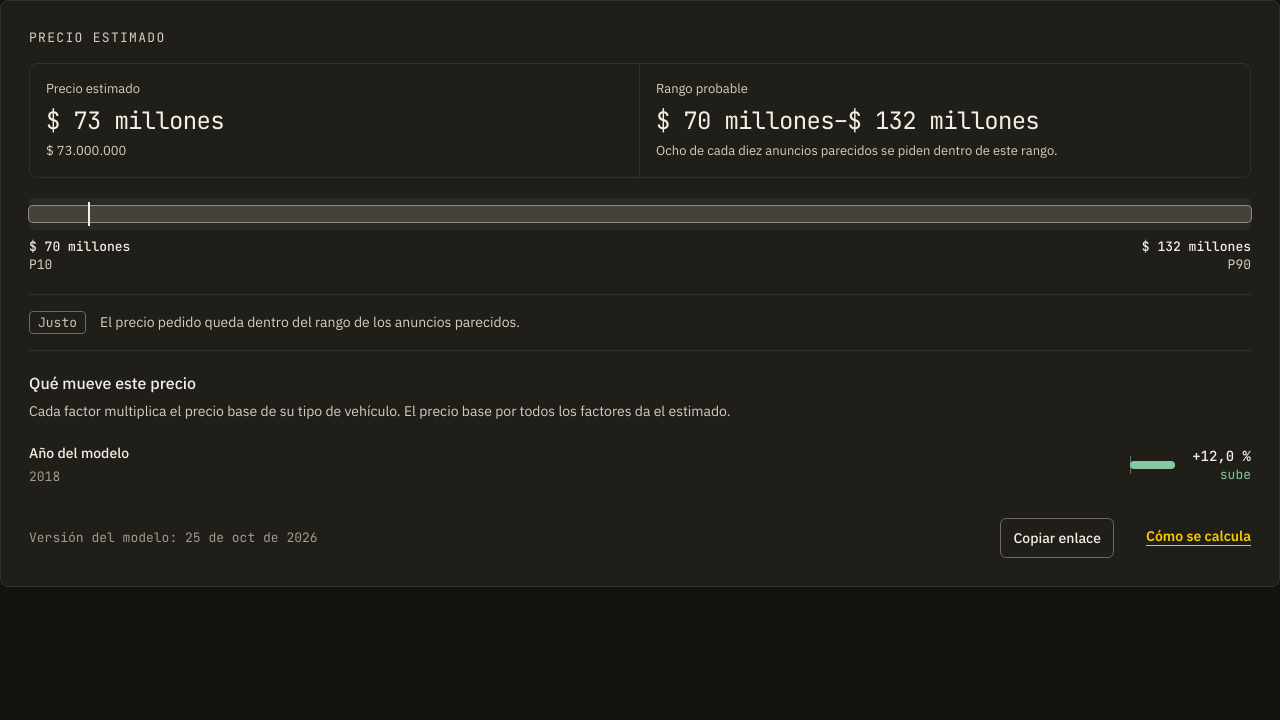
Test: the share button › copies the address bar and confirms it
Click the button "Copiar enlace" at coordinates (1057, 538), box [1000,518,1114,558]
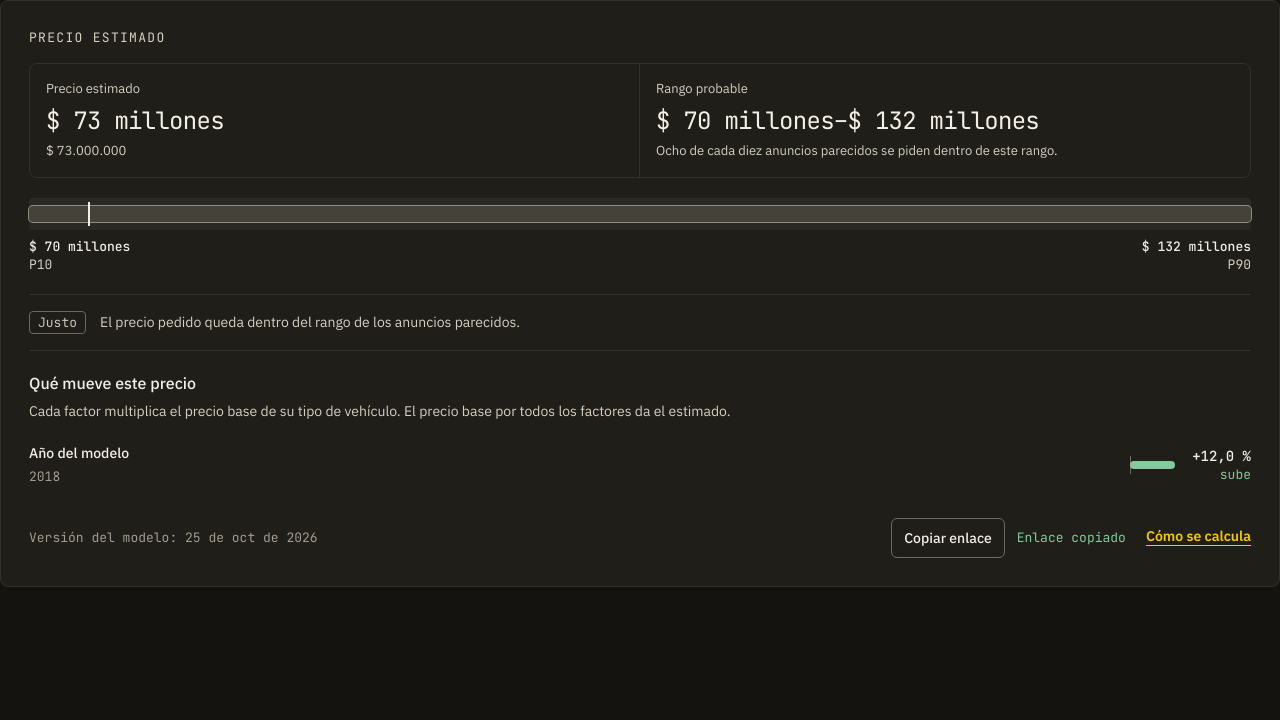
Now the text "Enlace copiado" is shown, box [1017,529,1126,547]
